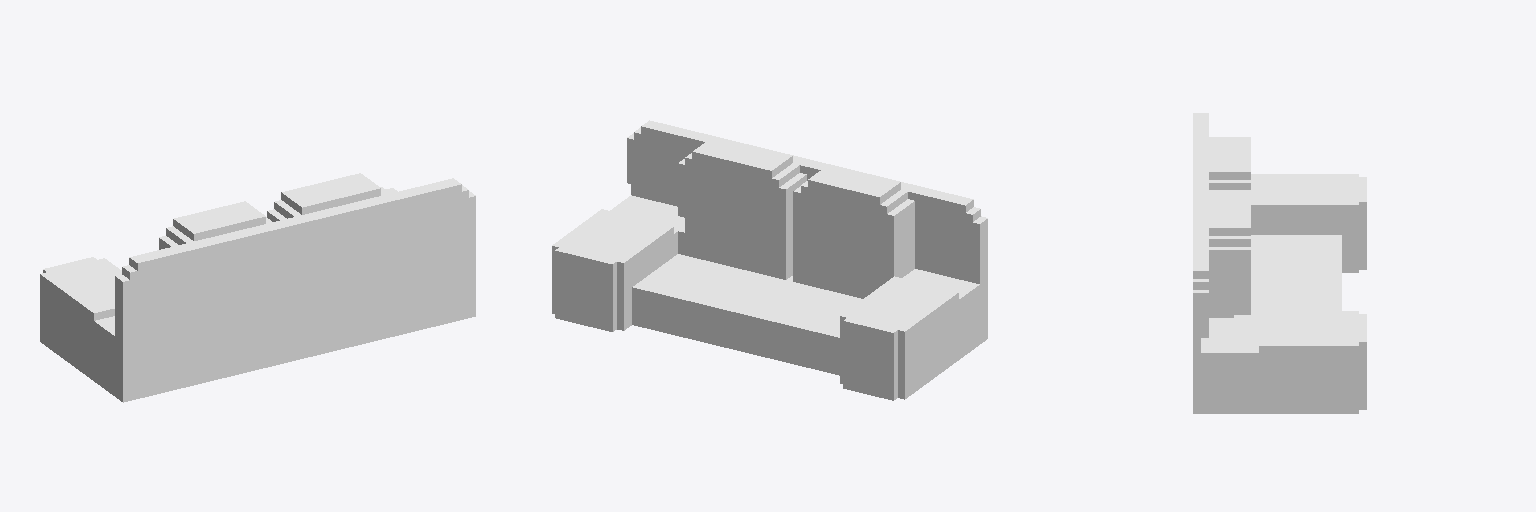
File: Character_room-4-Sofa.obj
3 views of the same model, side by side, from view 1: azimuth 30°, elevation 25°; view 2: azimuth 150°, elevation 25°; view 3: azimuth 270°, elevation 25° (orthographic).
Parts seen in each view (by area): view 1: Sofa; view 2: Sofa; view 3: Sofa.
Boxes of the visible parts, x1,y1,x2,y2 form: Sofa: [40, 173, 475, 402]; Sofa: [552, 120, 987, 400]; Sofa: [1193, 113, 1366, 413].
Bounding box in the file's own units: 4.9 × 1.9 × 2.1.